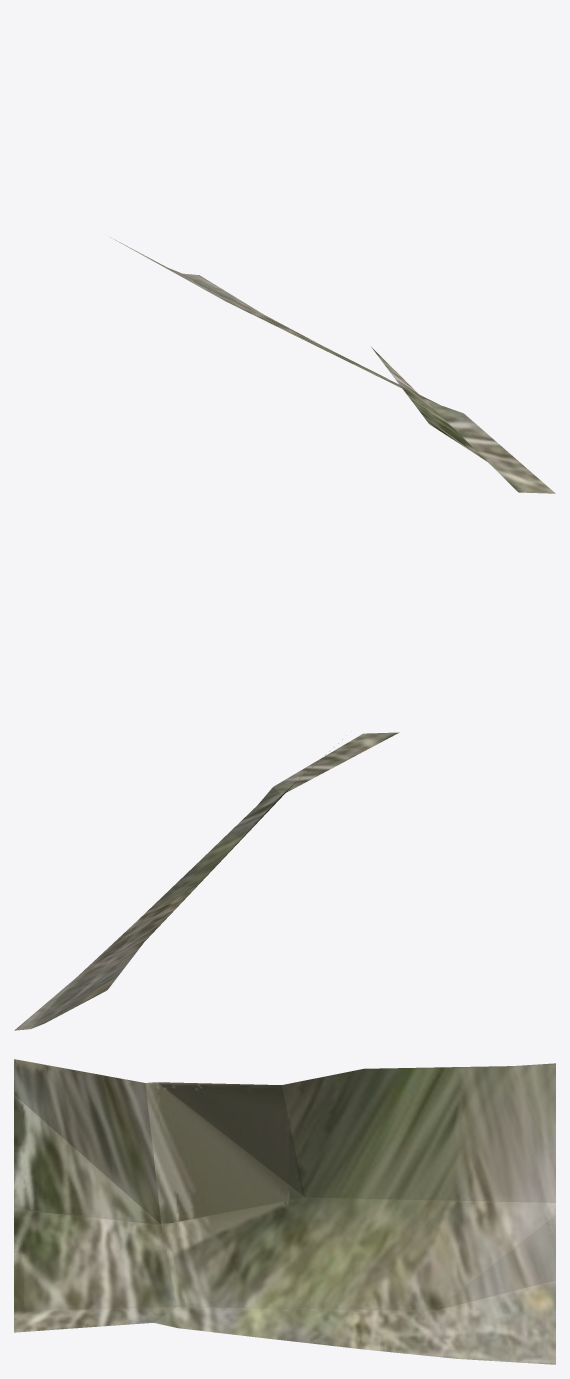
3 views of the same model, one above another, from view 1: azimuth 30°, elevation 25°; view 2: azimuth 150°, elevation 25°; view 3: azimuth 270°, elevation 25° (orthographic). The views are drawn at different scales.
Bounding box in the file's own units: 1.88 × 2.79 × 5.9.
Materials: 1 (1 with a texture image).
